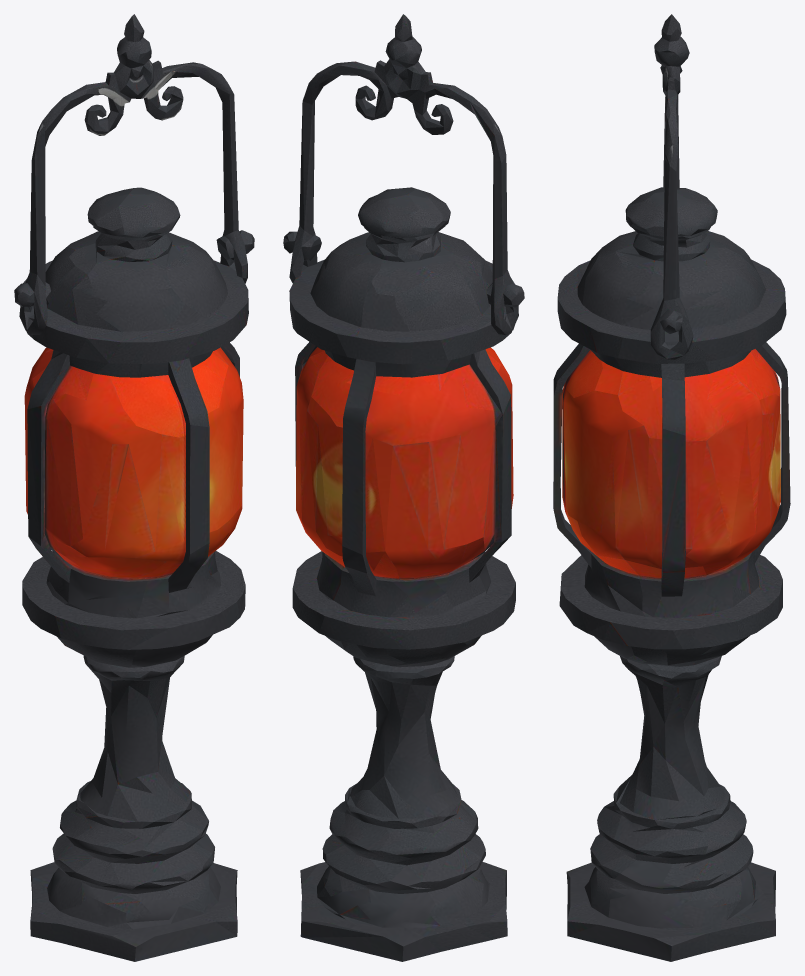
File: lava-lantern.glb
The picture shows the model from 3 angles, left to right: view 1: azimuth 30°, elevation 25°; view 2: azimuth 150°, elevation 25°; view 3: azimuth 270°, elevation 25°; orthographic projection.
Size of the model in its own units: 0.526 by 1.9 by 0.4548.
1 material, 1 textured.
